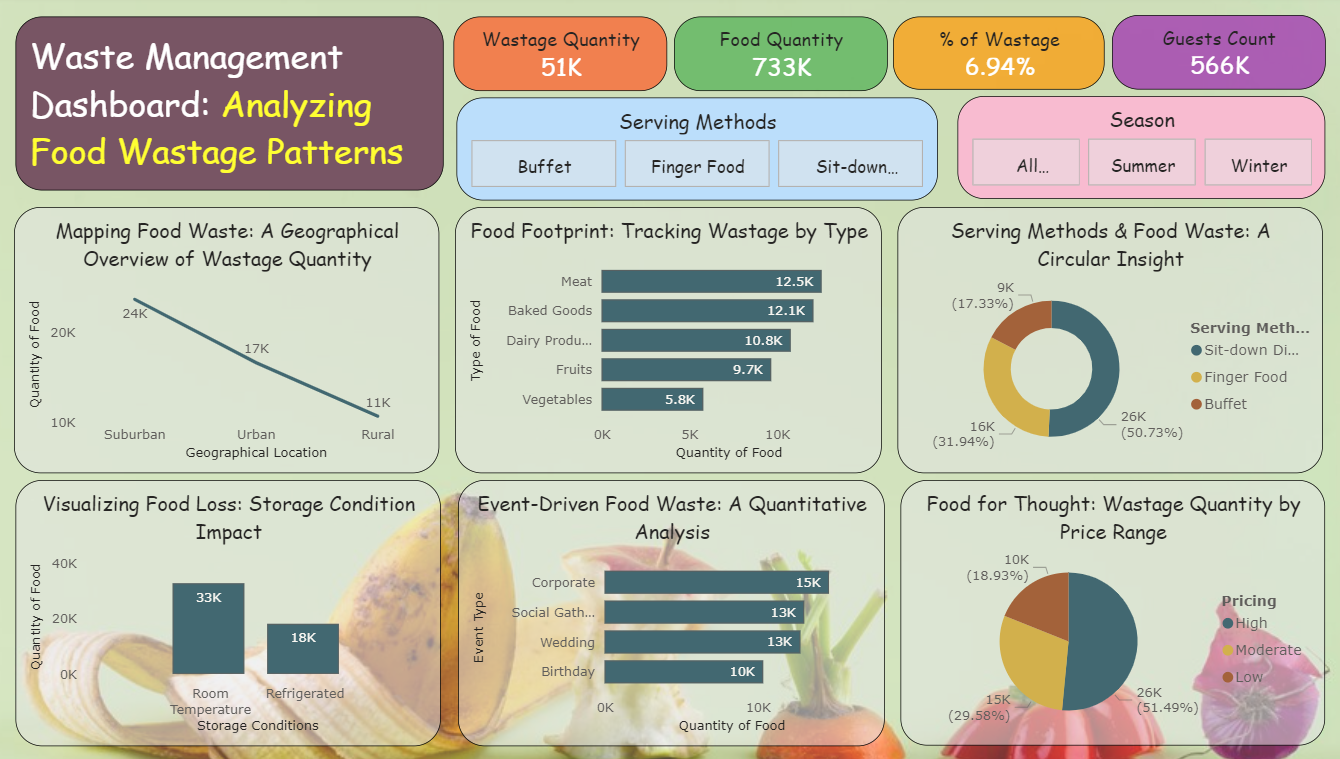

Layout of this report page (visuals, bound fields, positions):
{"tool":"powerbi","page":{"name":"Food Wastage Dashboard","canvas":[1280,720],"ordinal":0},"visuals":[{"type":"card","title":"Wastage Quantity","fields":{"Values":["Sum(Food wastage data analysis.Wastage Food Amount)"]},"box":[435.8,20.7,200.4,70],"z":0},{"type":"clusteredBarChart","title":"Food Footprint: Tracking Wastage by Type","fields":{"Category":["Food wastage data analysis.Type of Food"],"Y":["Sum(Food wastage data analysis.Wastage Food Amount)"]},"box":[436.6,200.4,400.8,249.7],"z":1000},{"type":"barChart","title":"Event-Driven Food Waste: A Quantitative Analysis","fields":{"Category":["Food wastage data analysis.Event Type"],"Y":["Sum(Food wastage data analysis.Wastage Food Amount)"]},"box":[439,456.5,400.8,249.7],"z":2000},{"type":"columnChart","title":"Visualizing Food Loss: Storage Condition Impact","fields":{"Category":["Food wastage data analysis.Storage Conditions"],"Y":["Sum(Food wastage data analysis.Wastage Food Amount)"]},"box":[23.9,456.5,399.2,249.7],"z":3000},{"type":"lineChart","title":"Mapping Food Waste: A Geographical Overview of Wastage Quantity","fields":{"Category":["Food wastage data analysis.Geographical Location"],"Y":["Sum(Food wastage data analysis.Wastage Food Amount)"]},"box":[22.3,200.4,399.2,249.7],"z":4000},{"type":"donutChart","title":"Serving Methods & Food Waste: A Circular Insight","fields":{"Y":["Sum(Food wastage data analysis.Wastage Food Amount)"],"Category":["Food wastage data analysis.Preparation Method"]},"box":[852.6,200.4,399.2,249.7],"z":5000},{"type":"pieChart","title":"Food for Thought: Wastage Quantity by Price Range","fields":{"Category":["Food wastage data analysis.Pricing"],"Y":["Sum(Food wastage data analysis.Wastage Food Amount)"]},"box":[854.9,456.3,398.6,249.3],"z":6000},{"type":"advancedSlicerVisual","title":"Season","fields":{"Values":["Food wastage data analysis.Seasonality"]},"box":[908.1,95.3,345.4,96.9],"z":7000},{"type":"advancedSlicerVisual","fields":{"Values":["Food wastage data analysis.Preparation Method"]},"box":[437.6,96.9,451.7,96.9],"z":8000},{"type":"card","title":"Food Quantity","fields":{"Values":["Sum(Food wastage data analysis.Quantity of Food)"]},"box":[642.1,20.7,200.4,70],"z":9000},{"type":"card","title":"Guests Count","fields":{"Values":["Sum(Food wastage data analysis.Number of Guests)"]},"box":[1053,20.1,200.4,70],"z":10000},{"type":"card","title":"% of Wastage","fields":{"Values":["Food wastage data analysis.% of Food Wastage"]},"box":[848.3,21.2,198.8,68.4],"z":11000},{"type":"textbox","box":[24,21.1,401.8,163.6],"z":12000}]}

Visuals, with their boxes in screenshot pixels (x1, y1, x2, y2), scaled from the page's 1280x720 canvas onto the 1340x759 screenshot:
"Wastage Quantity" card: box(456, 22, 666, 96)
"Food Footprint: Tracking Wastage by Type" clusteredBarChart: box(457, 211, 877, 474)
"Event-Driven Food Waste: A Quantitative Analysis" barChart: box(460, 481, 879, 744)
"Visualizing Food Loss: Storage Condition Impact" columnChart: box(25, 481, 443, 744)
"Mapping Food Waste: A Geographical Overview of Wastage Quantity" lineChart: box(23, 211, 441, 474)
"Serving Methods & Food Waste: A Circular Insight" donutChart: box(893, 211, 1310, 474)
"Food for Thought: Wastage Quantity by Price Range" pieChart: box(895, 481, 1312, 744)
"Season" advancedSlicerVisual: box(951, 100, 1312, 203)
advancedSlicerVisual - Food wastage data analysis.Preparation Method: box(458, 102, 931, 204)
"Food Quantity" card: box(672, 22, 882, 96)
"Guests Count" card: box(1102, 21, 1312, 95)
"% of Wastage" card: box(888, 22, 1096, 94)
textbox: box(25, 22, 446, 195)
